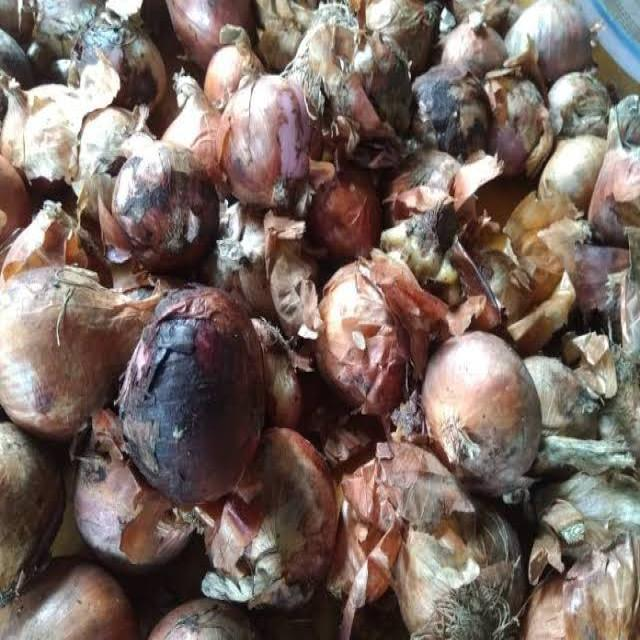rotten: (143, 312, 199, 499), (407, 521, 491, 603), (417, 86, 469, 144), (129, 166, 174, 227)
